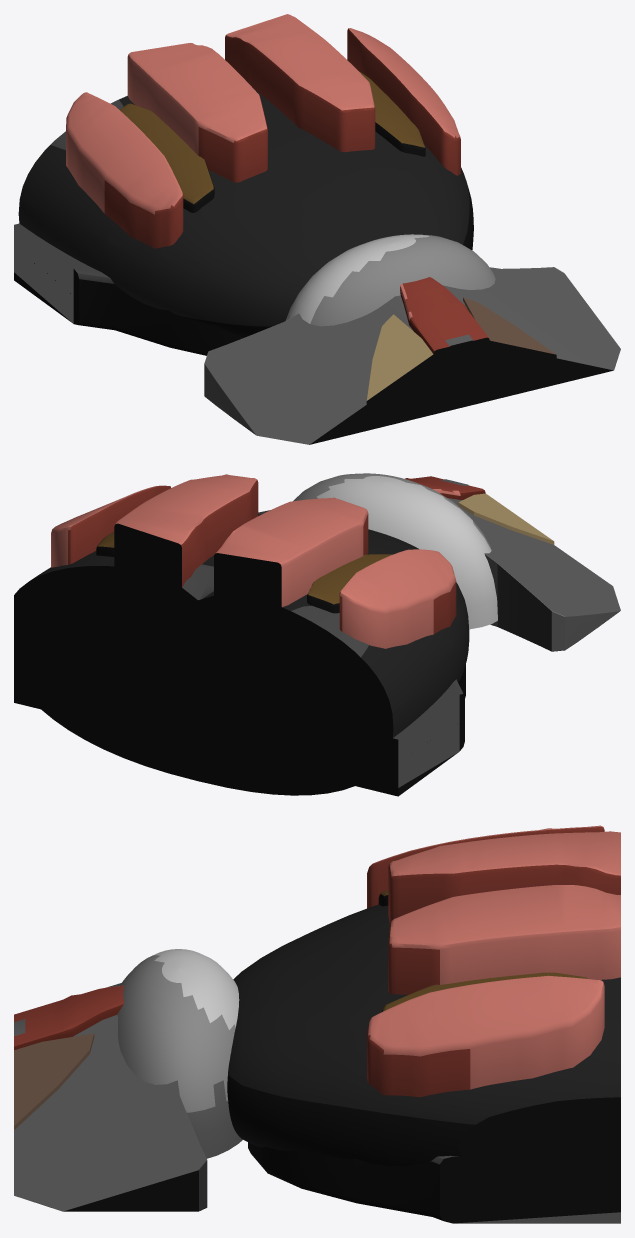
The model's file is tusk_boss_90.glb.
The picture shows the model from 3 angles, top to bottom: view 1: azimuth 30°, elevation 25°; view 2: azimuth 150°, elevation 25°; view 3: azimuth 270°, elevation 25°; orthographic projection. The views are drawn at different scales.
Parts seen in each view (by area): view 1: tusk_boss_90; view 2: tusk_boss_90; view 3: tusk_boss_90.
Part boxes in pixels (x1,y1,x2,y2): tusk_boss_90: [14, 14, 620, 444]; tusk_boss_90: [14, 473, 620, 796]; tusk_boss_90: [14, 825, 620, 1223].
Size of the model in its own units: 24 by 14.44 by 28.
